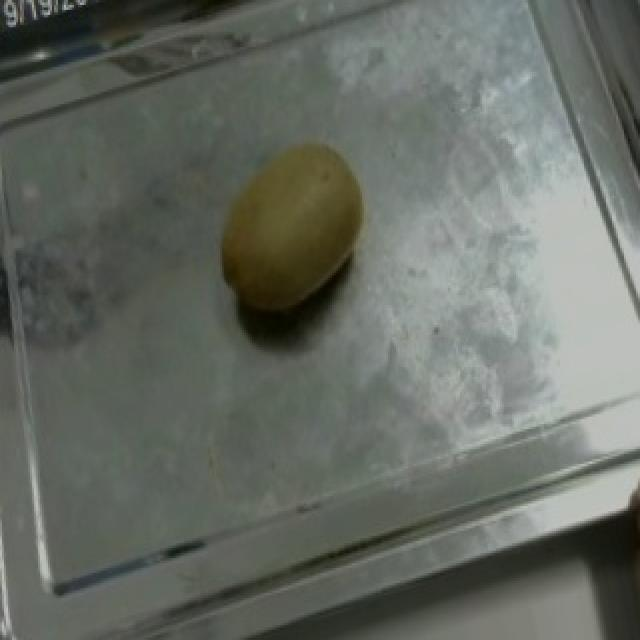Fruit: (192, 112, 396, 347)
